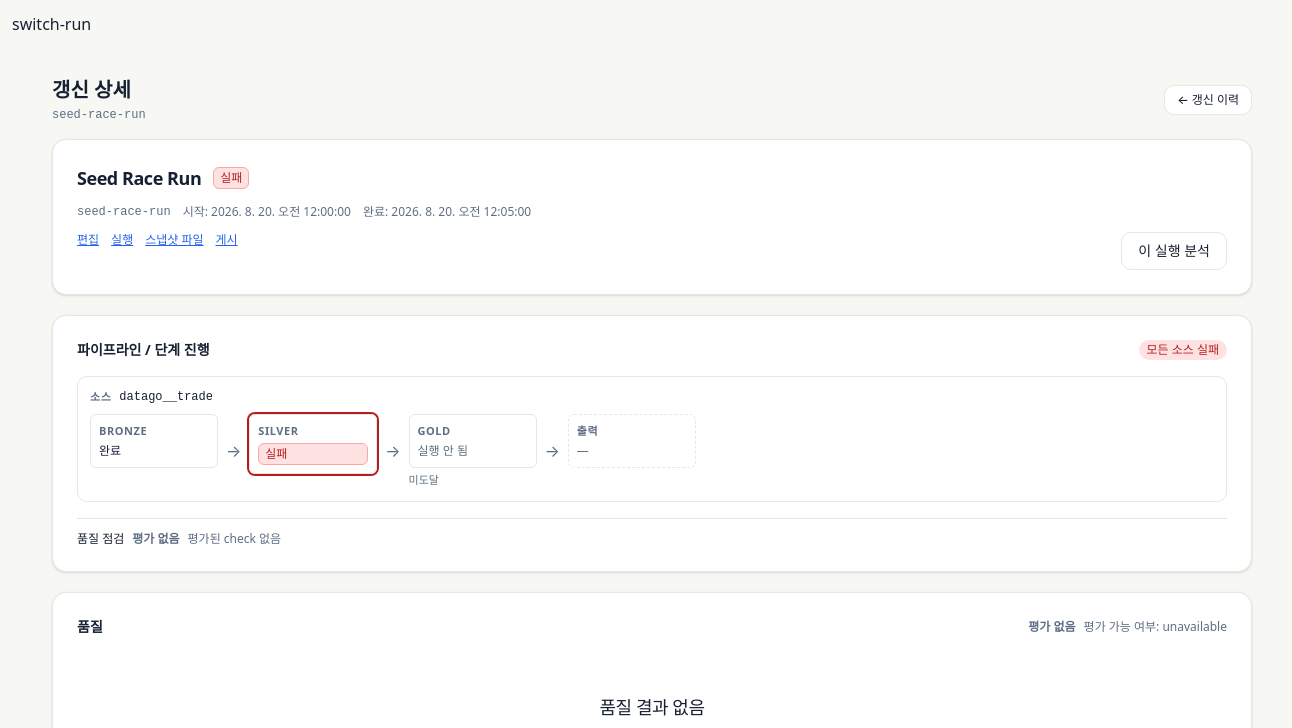
Test: C1 — Builds Ask KPubData seed vs. context back-fill race › re-clicking '이 실행 분석' on the same run re-analyzes (retry after an errored analysis is not blocked)
The width and height of the screenshot is (1292, 728).
What coordinates should you click on to do the following:
click the button "이 실행 분석"
I would click on:
 (1174, 251)
Its box is [1121,232,1227,270].
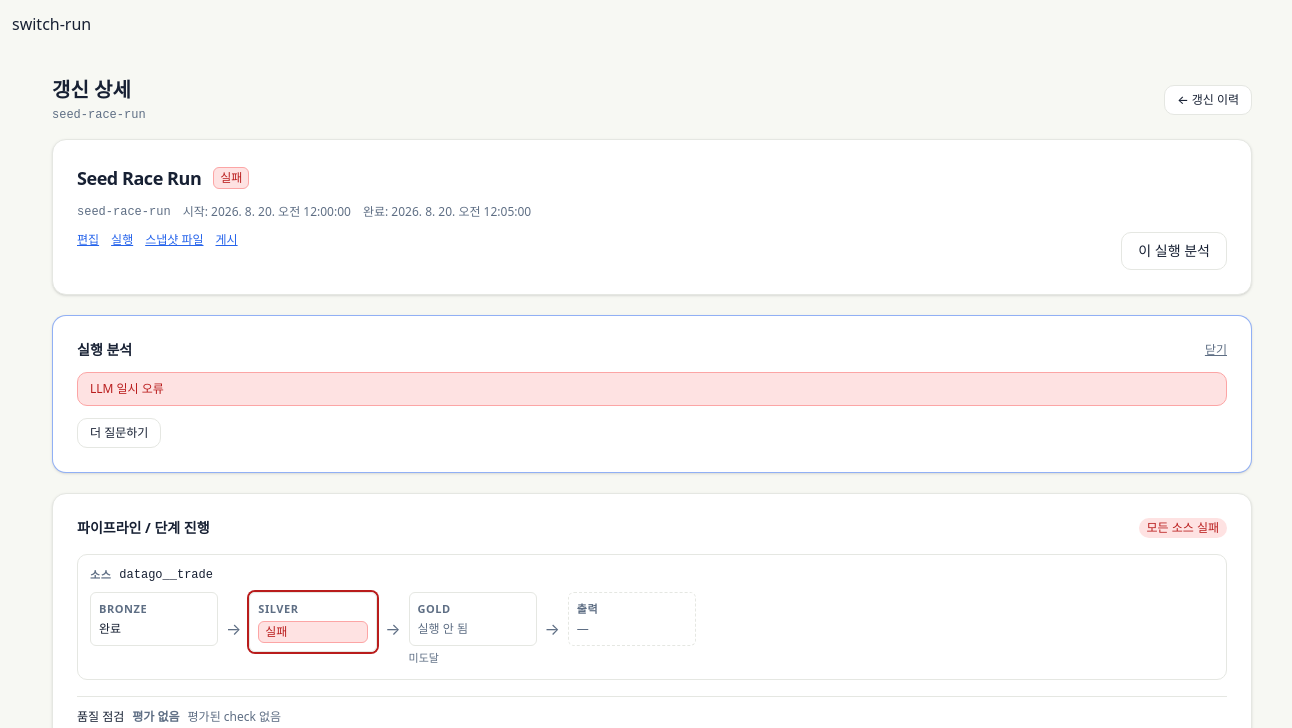
Expected: the text "LLM 일시 오류" is shown, [77,372,1227,406]
// 재클릭 → 새 분석이 시작되고 이번엔 성공한다.
What coordinates should you click on to do the following:
click the button "이 실행 분석"
I would click on:
 (1174, 251)
Its box is [1121,232,1227,270].
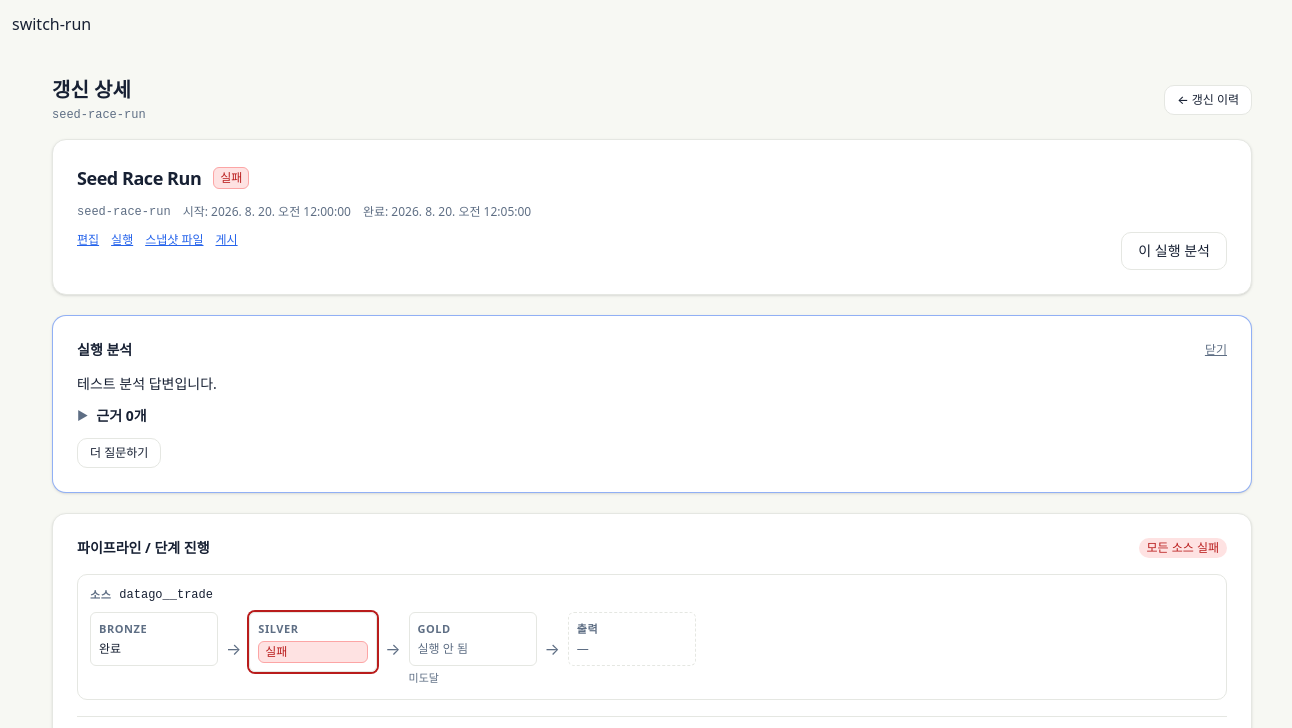
Expected: the text "테스트 분석 답변입니다." is shown, [77,374,217,393]
